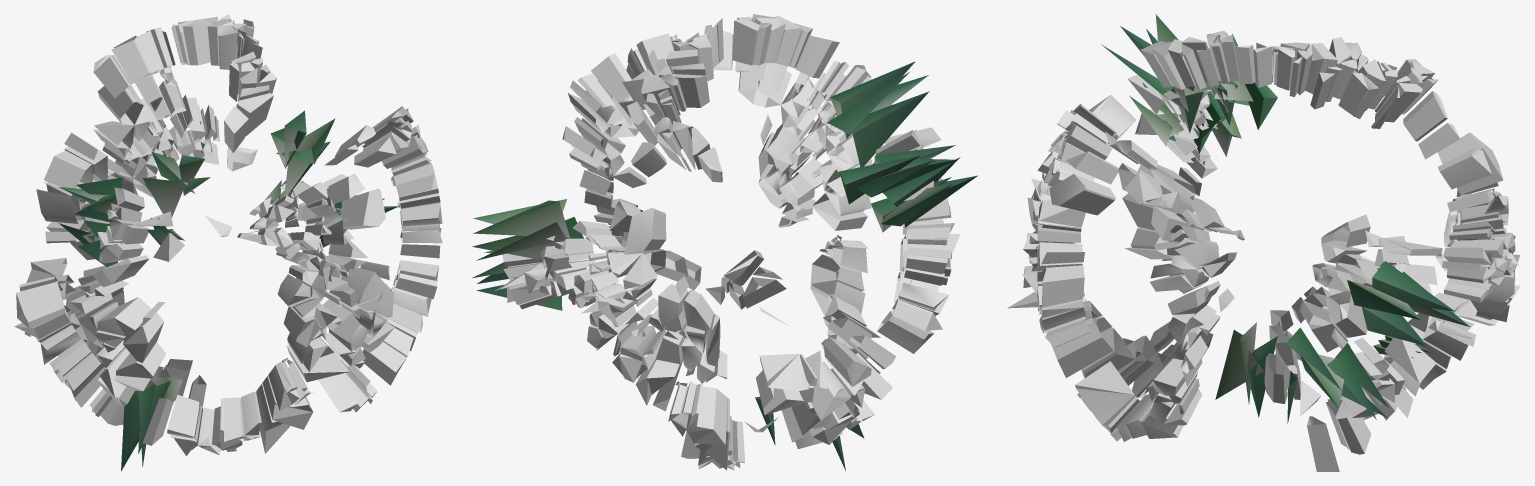
File: Ice_Planet_000.fbx
3 views of the same model, side by side, from view 1: azimuth 30°, elevation 25°; view 2: azimuth 150°, elevation 25°; view 3: azimuth 270°, elevation 25° (orthographic). The views are drawn at different scales.
Parts seen in each view (by area): view 1: Ice.Planet.000; view 2: Ice.Planet.000; view 3: Ice.Planet.000.
Part boxes in pixels (x1=…): Ice.Planet.000: x1=14, y1=14, x2=442, y2=471; Ice.Planet.000: x1=472, y1=14, x2=977, y2=470; Ice.Planet.000: x1=1007, y1=14, x2=1520, y2=471.
Size of the model in its own units: 86169 by 82628 by 86709.
